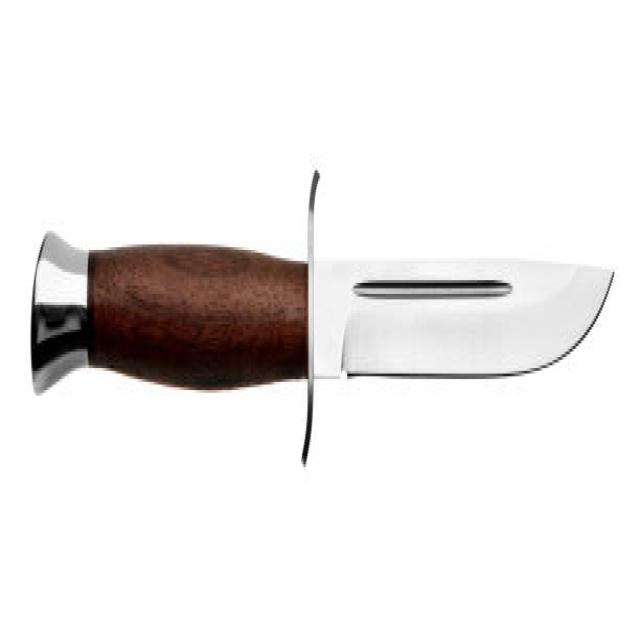knife: (24, 171, 618, 465)
